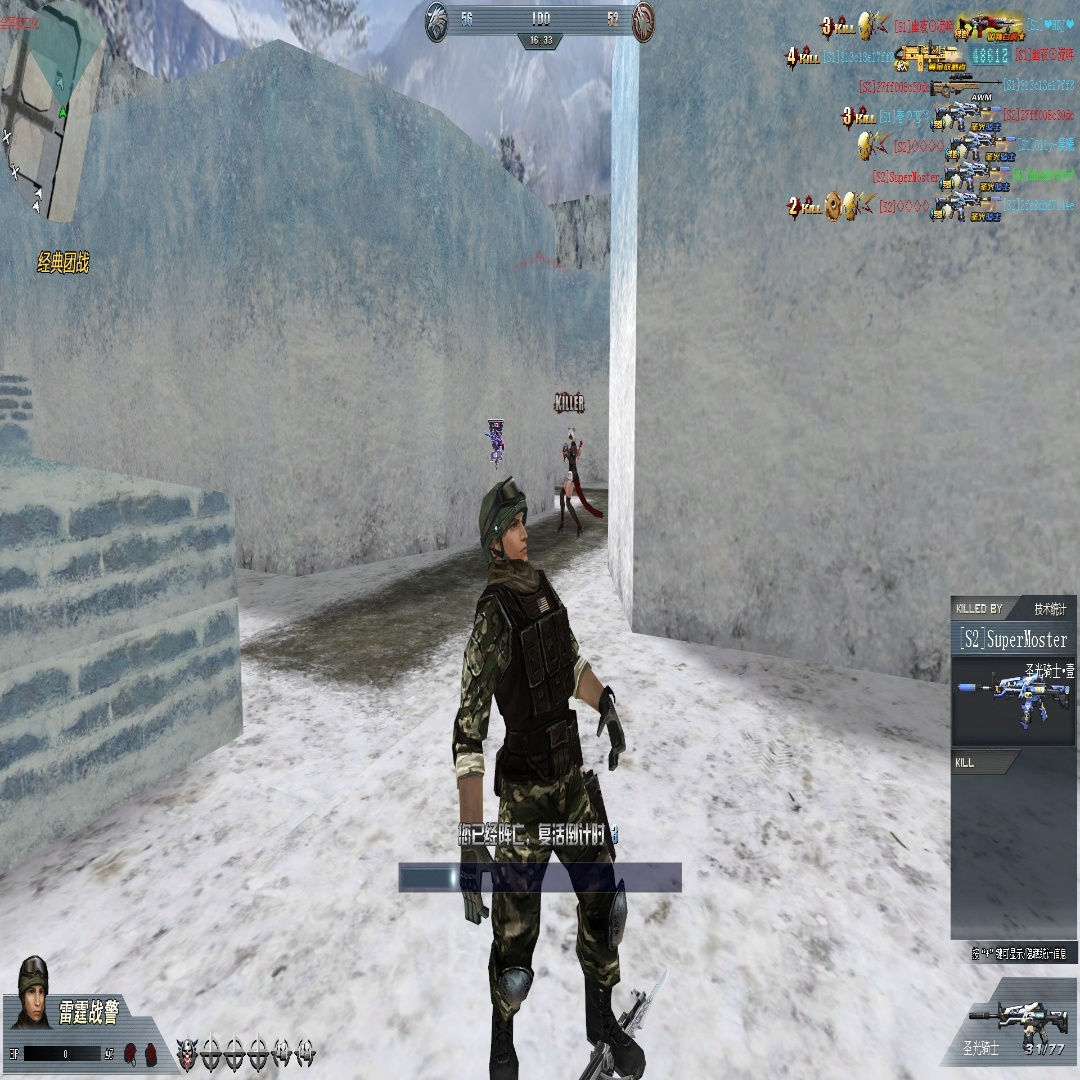t: (559, 432, 604, 537)
